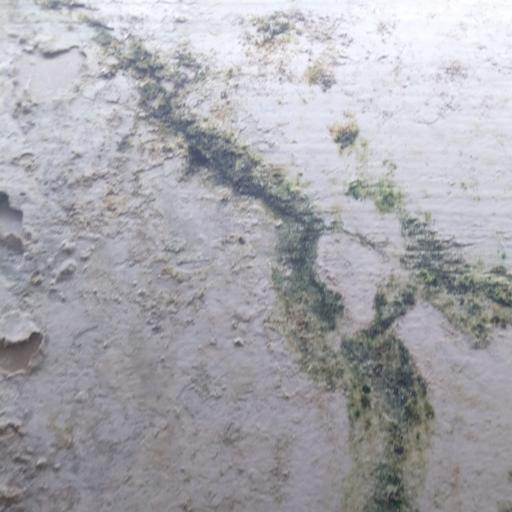algae: (95, 31, 512, 479)
